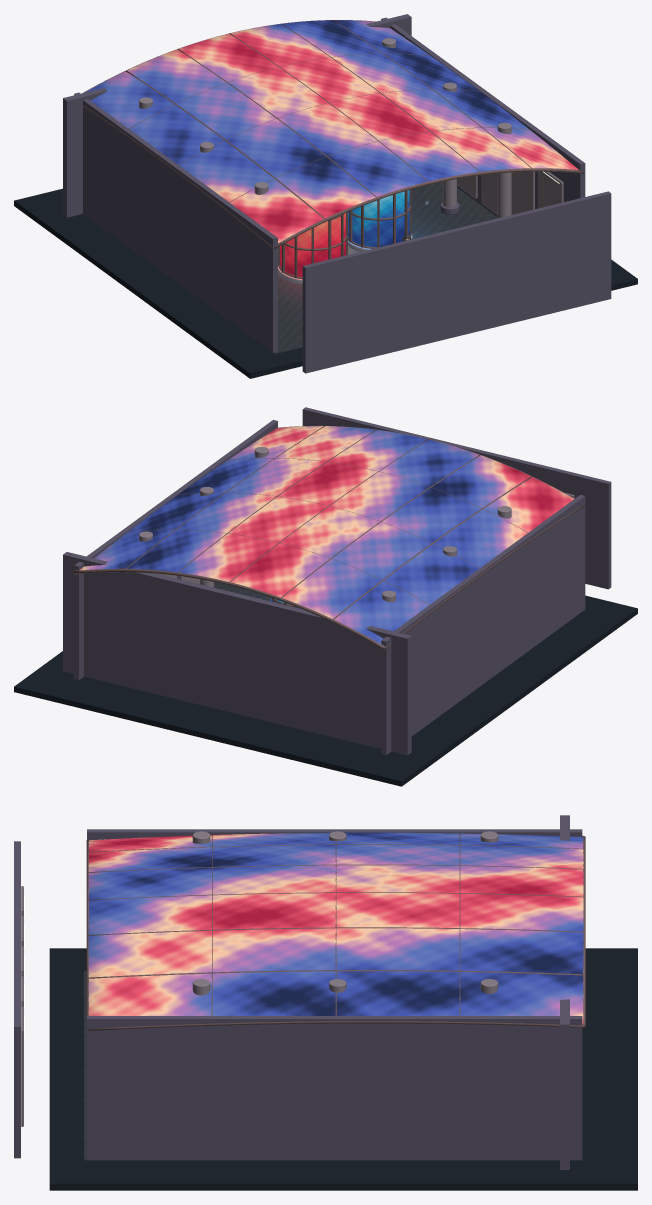
3 views of the same model, one above another, from view 1: azimuth 30°, elevation 25°; view 2: azimuth 150°, elevation 25°; view 3: azimuth 270°, elevation 25° (orthographic). The views are drawn at different scales.
Parts seen in each view (by area): view 1: Bent kiln-glazed glass ceiling, Entrance wall across the forward hall, Side wall beneath the glass canopy, Concourse ground underneath joints, Rectangular dark terrazzo floor tile, Rear concourse wall, Side wall beneath the glass canopy.001, Continuous curved enamel glazing.001, Continuous curved enamel glazing, Tower bronze mullion / glazing, Ceiling transverse glazing bar, Side concourse stone recess.007 (+3 smaller); view 2: Bent kiln-glazed glass ceiling, Rear concourse wall, Concourse ground underneath joints, Side wall beneath the glass canopy, Entrance wall across the forward hall, Side wall beneath the glass canopy.001, Ceiling transverse glazing bar.012; view 3: Bent kiln-glazed glass ceiling, Side wall beneath the glass canopy.001, Concourse ground underneath joints, Side wall beneath the glass canopy, Entrance wall across the forward hall, Rear concourse wall, Ceiling longitudinal glazing bar.018, Ceiling longitudinal glazing bar.015, Ceiling longitudinal glazing bar.012, Ceiling longitudinal glazing bar.006, Ceiling longitudinal glazing bar.009, Ceiling longitudinal glazing bar.003 (+3 smaller).
Part boxes in pixels (x1,y1,x2,y2): Bent kiln-glazed glass ceiling: (84,20,578,243); Entrance wall across the forward hall: (302,191,611,373); Side wall beneath the glass canopy: (74,92,277,352); Concourse ground underneath joints: (14,188,637,378); Rectangular dark terrazzo floor tile: (274,181,497,353); Rear concourse wall: (63,14,411,217); Side wall beneath the glass canopy.001: (381,17,585,216); Continuous curved enamel glazing.001: (348,190,409,247); Continuous curved enamel glazing: (280,213,345,277); Tower bronze mullion / glazing: (278,189,411,278); Ceiling transverse glazing bar: (274,168,584,248); Side concourse stone recess.007: (511,171,534,214); Bent kiln-glazed glass ceiling: (75,426,573,646); Rear concourse wall: (63,552,411,755); Concourse ground underneath joints: (14,595,637,786); Side wall beneath the glass canopy: (381,495,585,754); Entrance wall across the forward hall: (302,407,611,589); Side wall beneath the glass canopy.001: (74,420,277,679); Ceiling transverse glazing bar.012: (73,568,384,649); Bent kiln-glazed glass ceiling: (88,832,583,1024); Side wall beneath the glass canopy.001: (87,1016,582,1160); Concourse ground underneath joints: (49,948,637,1190); Side wall beneath the glass canopy: (87,829,582,840); Entrance wall across the forward hall: (14,841,20,1158); Rear concourse wall: (560,815,569,1169); Ceiling longitudinal glazing bar.018: (88,1021,583,1030); Ceiling longitudinal glazing bar.015: (88,970,583,978); Ceiling longitudinal glazing bar.012: (88,927,583,935); Ceiling longitudinal glazing bar.006: (88,864,583,872); Ceiling longitudinal glazing bar.009: (88,892,583,900); Ceiling longitudinal glazing bar.003: (88,844,583,852).
Size of the model in its own units: 18 by 6.43 by 20.15.
Materials: 18 (8 with a texture image).
